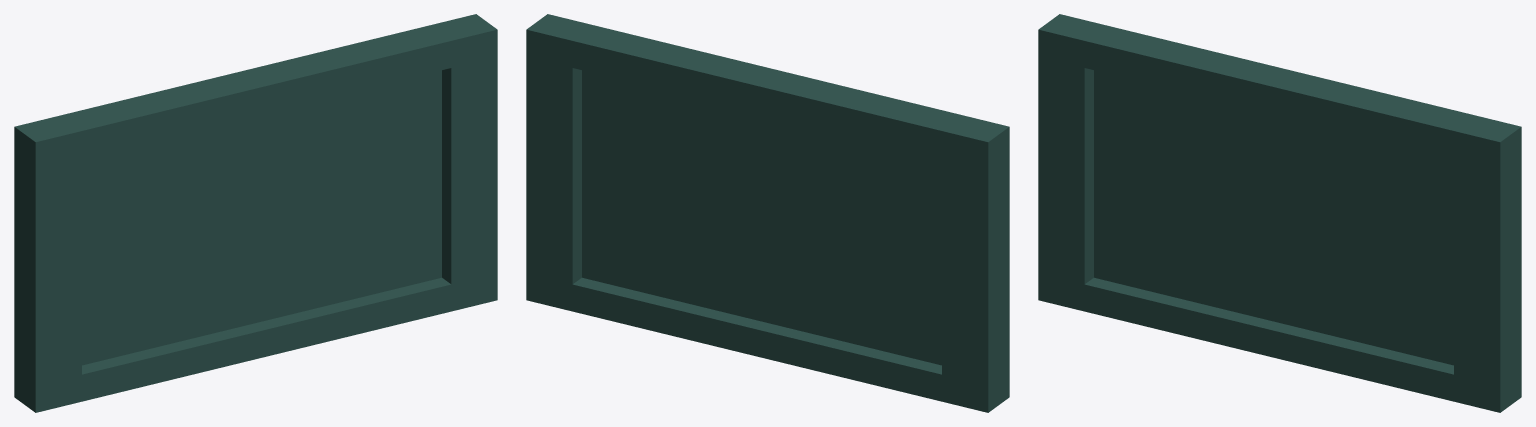
The model's file is Frame.fbx.
3 views of the same model, side by side, from view 1: azimuth 30°, elevation 25°; view 2: azimuth 150°, elevation 25°; view 3: azimuth 330°, elevation 25° (orthographic).
Visible parts, largest first — view 1: pCube2; view 2: pCube2; view 3: pCube2.
Part boxes in pixels (x1=…): pCube2: x1=14, y1=14, x2=497, y2=412; pCube2: x1=526, y1=14, x2=1009, y2=412; pCube2: x1=1038, y1=14, x2=1521, y2=412.
Size of the model in its own units: 16.22 by 9.08 by 1.3.
